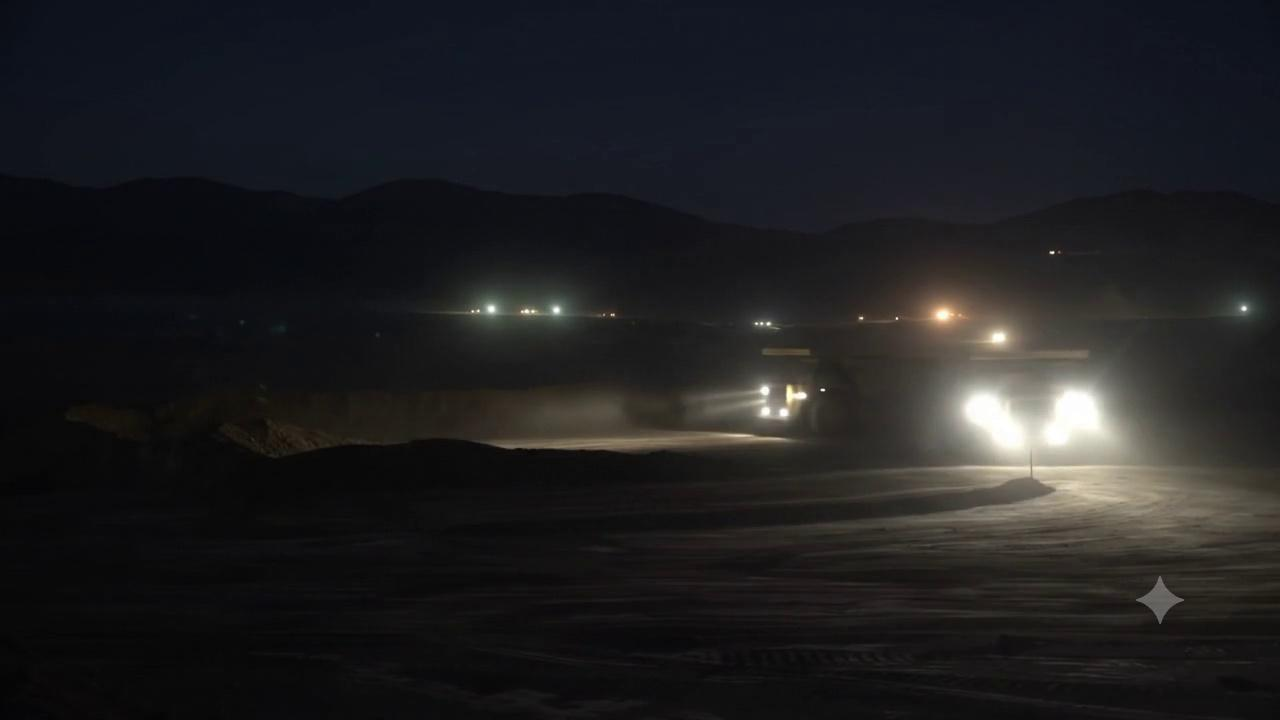CAEX: (747, 346, 936, 437), (948, 343, 1103, 451)
